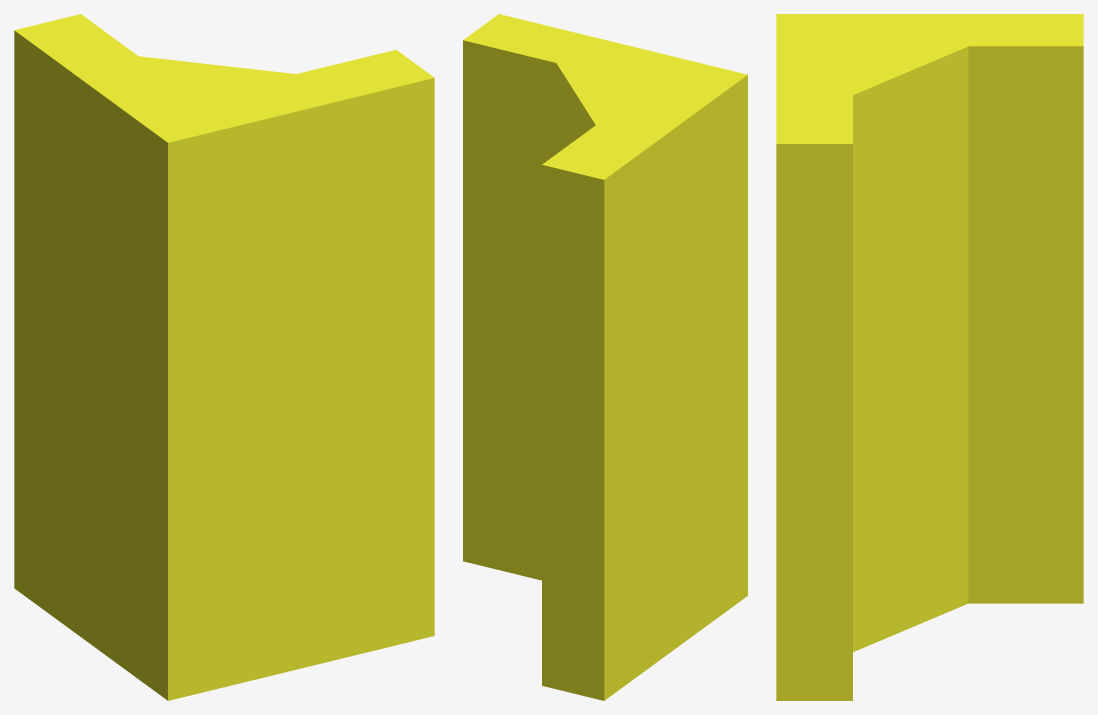
Rendered from x_skala_crash_dop_1.fbx.
3 renders of one model, left to right at view 1: azimuth 30°, elevation 25°; view 2: azimuth 150°, elevation 25°; view 3: azimuth 270°, elevation 25°, orthographic. The views are drawn at different scales.
Visible parts, largest first — view 1: x_skala_crash_80_1; view 2: x_skala_crash_80_1; view 3: x_skala_crash_80_1.
Boxes of the visible parts, bbox=[...] form: x_skala_crash_80_1: bbox=[14, 14, 434, 700]; x_skala_crash_80_1: bbox=[463, 14, 747, 700]; x_skala_crash_80_1: bbox=[776, 14, 1083, 700].
Size of the model in its own units: 2 by 4 by 2.
